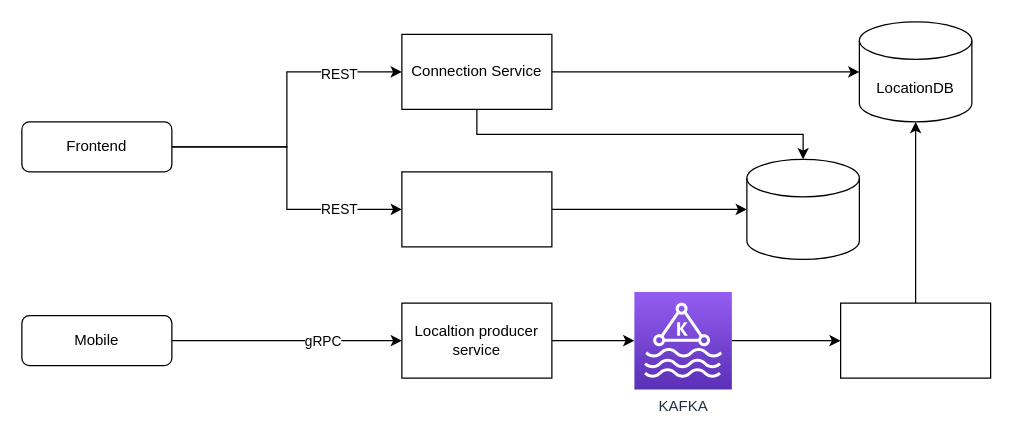
This 1013x438 diagram has some shape labels left out. Here are the shapes that lost their labels. From the top down, the centre of each, then its label:
At point (476, 209): "Personal Service".
At point (802, 208): "PersonalDB".
At point (915, 340): "Localtion consumer service".
